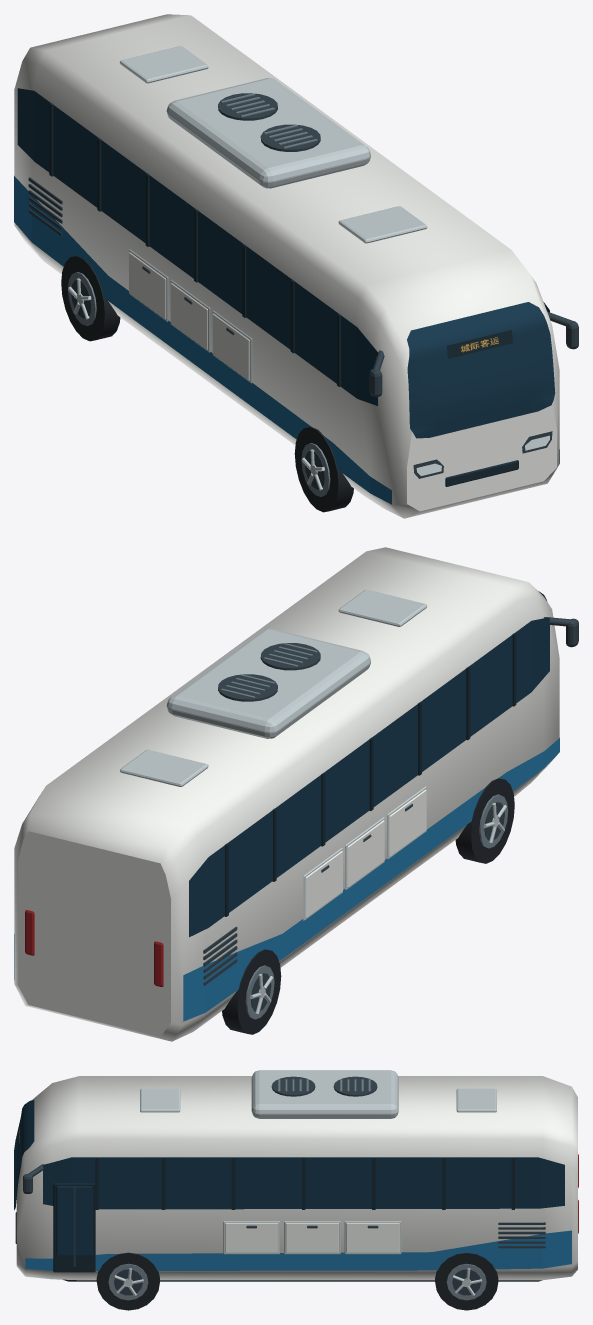
Rendered from coach.glb.
3 renders of one model, top to bottom at view 1: azimuth 30°, elevation 25°; view 2: azimuth 150°, elevation 25°; view 3: azimuth 270°, elevation 25°, orthographic. The views are drawn at different scales.
Visible parts, largest first — view 1: coach; view 2: coach; view 3: coach.
Part boxes in pixels (bbox=[...]): coach: bbox=[14, 14, 578, 518]; coach: bbox=[14, 547, 578, 1041]; coach: bbox=[14, 1070, 578, 1310].
Bounding box in the file's own units: 2.56 × 3.18 × 8.38.
11 materials, 1 textured.
